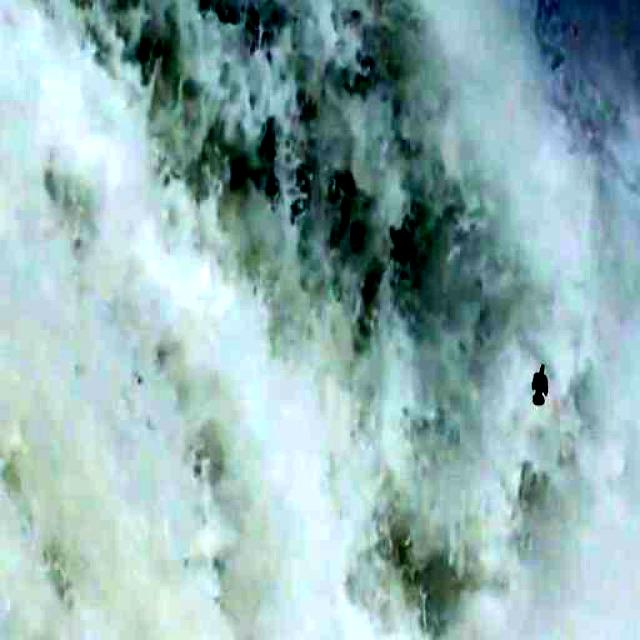airplane: (521, 335, 558, 431)
